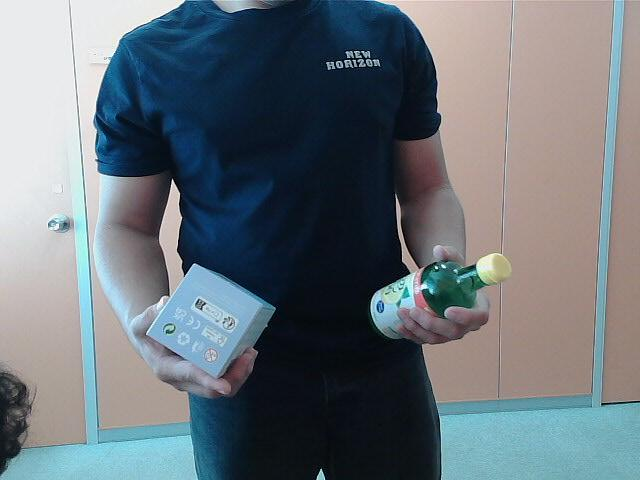Blind_box: (142, 255, 286, 380)
Lemon_sapporo: (369, 250, 521, 344)
